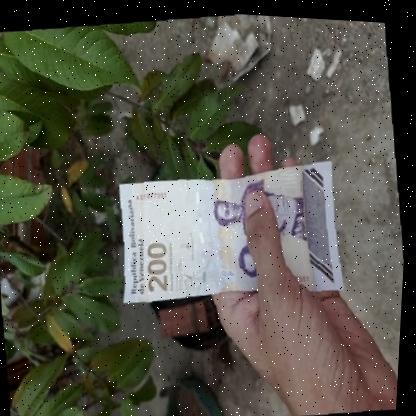vef_front: (112, 145, 353, 311)
